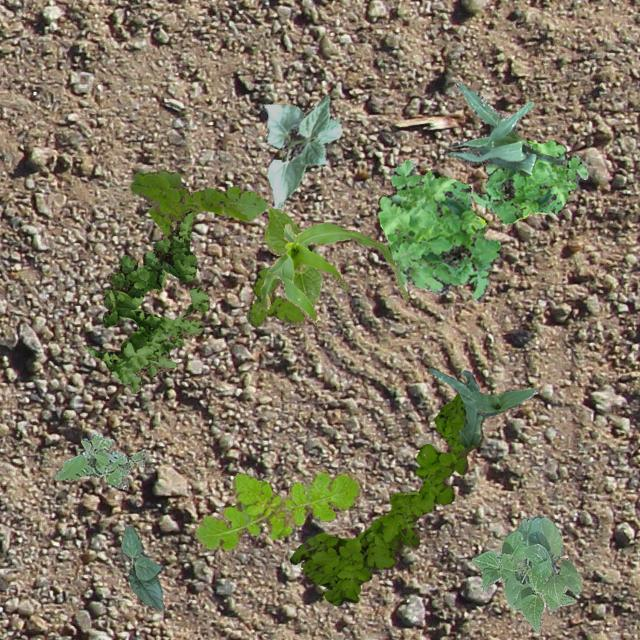crop: (260, 222, 408, 322), (470, 514, 580, 632), (448, 80, 566, 174), (264, 94, 342, 208), (428, 366, 536, 448), (264, 208, 320, 316), (120, 524, 162, 610)
weed: (288, 392, 482, 604), (85, 210, 208, 392), (376, 158, 502, 302), (193, 468, 360, 550), (469, 140, 586, 223), (128, 168, 266, 236), (54, 432, 146, 488), (246, 266, 304, 326)
